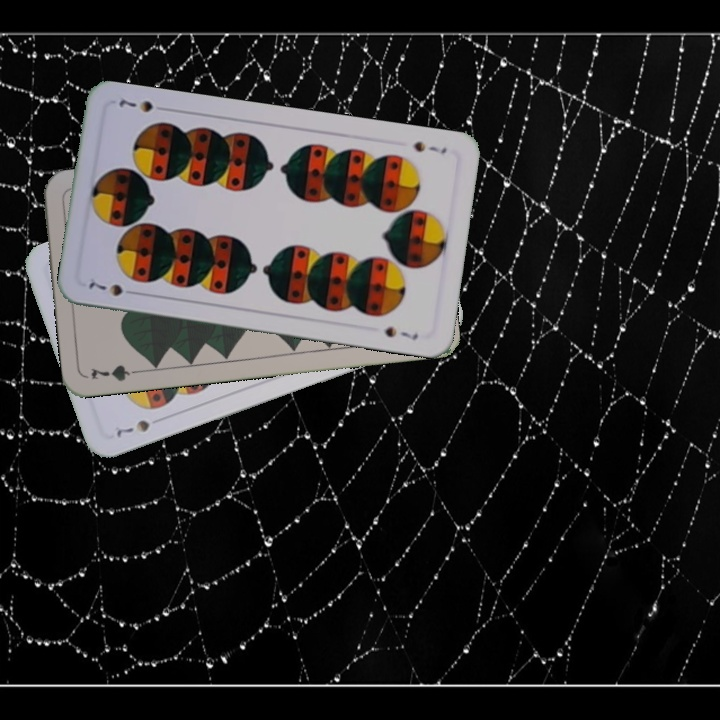G7: (87, 361, 146, 384)
S7: (84, 278, 140, 299), (112, 415, 152, 440), (410, 137, 449, 157)
